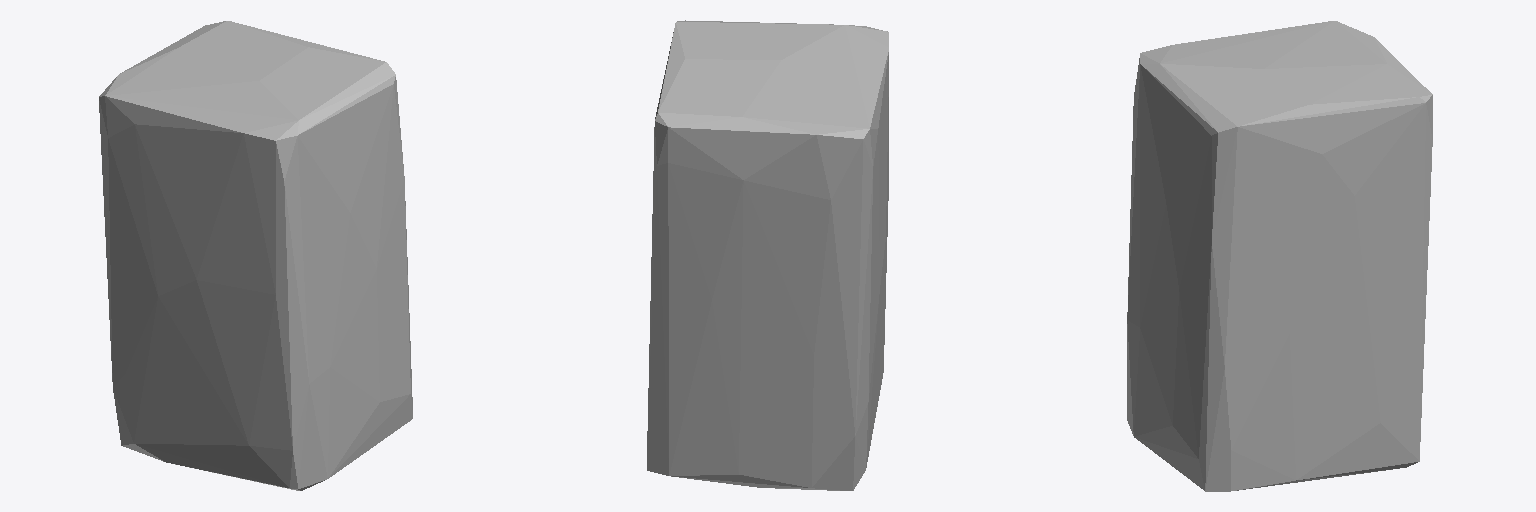
URDF robot description (root):
<robot name="root">
  <link name="link_kit~OrgFruitTea_800_tex_convex_piece_0">
    <inertial>
      <origin rpy="0 0 0" xyz="0 0 0"/>
      <mass value="3.76E-01"/>
      <inertia ixx="2.04E-04" ixy="-4.36E-06" ixz="-4.12E-06" iyy="1.96E-04" iyz="3.48E-06" izz="9.91E-05"/>
    </inertial>
    <visual>
      <origin rpy="0 0 0" xyz="0 0 0"/>
      <geometry>
        <mesh filename="kit~OrgFruitTea_800_tex_convex_piece_0.obj" scale="1.0000E+00 1.0000E+00 1.0000E+00"/>
      </geometry>
      <material name="">
        <color rgba="7.50E-01 7.50E-01 7.50E-01 1"/>
      </material>
    </visual>
    <collision>
      <origin rpy="0 0 0" xyz="0 0 0"/>
      <geometry>
        <mesh filename="kit~OrgFruitTea_800_tex_convex_piece_0.obj" scale="1.0000E+00 1.0000E+00 1.0000E+00"/>
      </geometry>
    </collision>
  </link>
</robot>

--- Render facts (derived) ---
Views: 3 orthographic renders of the robot side by side, from view 1: azimuth 30°, elevation 25°; view 2: azimuth 150°, elevation 25°; view 3: azimuth 270°, elevation 25°.
Model root with 1 links and 0 joints (none), rooted at link_kit~OrgFruitTea_800_tex_convex_piece_0, posed all joints at 0.
Links seen in each view (by area): view 1: link_kit~OrgFruitTea_800_tex_convex_piece_0; view 2: link_kit~OrgFruitTea_800_tex_convex_piece_0; view 3: link_kit~OrgFruitTea_800_tex_convex_piece_0.
Link boxes in pixels (x1=…): link_kit~OrgFruitTea_800_tex_convex_piece_0: x1=99, y1=21, x2=412, y2=490; link_kit~OrgFruitTea_800_tex_convex_piece_0: x1=647, y1=20, x2=888, y2=490; link_kit~OrgFruitTea_800_tex_convex_piece_0: x1=1127, y1=21, x2=1432, y2=491.
Size in the robot's own frame: 0.0501 by 0.0523 by 0.0713 metres.
Meshes: 1 distinct files referenced, 1 mesh visuals loaded (1 OBJ).
